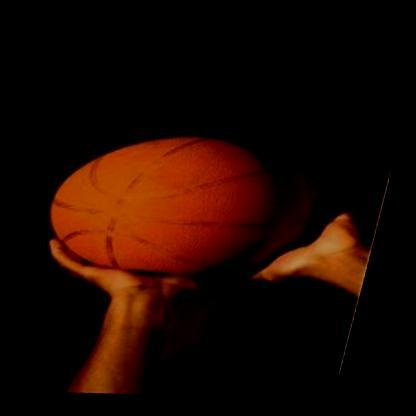basketball: (36, 106, 352, 313)
